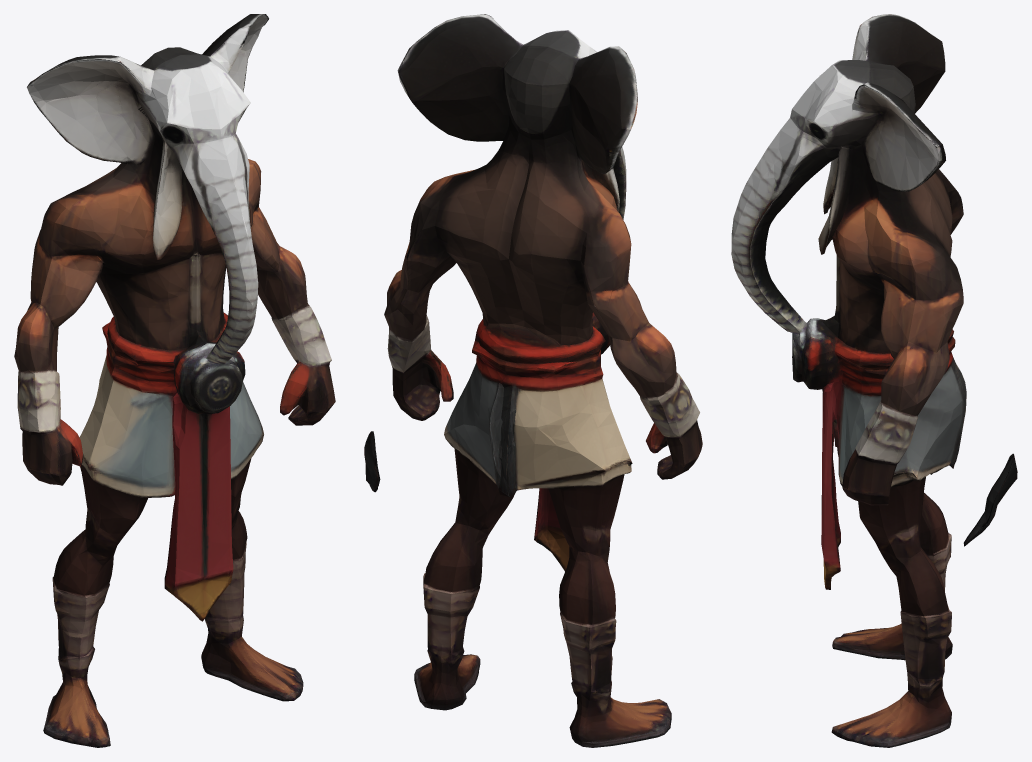
The model's file is sample-2.glb.
3 renders of one model, left to right at view 1: azimuth 30°, elevation 25°; view 2: azimuth 150°, elevation 25°; view 3: azimuth 270°, elevation 25°, orthographic. The views are drawn at different scales.
Visible parts, largest first — view 1: world; view 2: world; view 3: world.
Part boxes in pixels (x1,y1,x2,y2): world: (14, 14, 335, 747); world: (364, 14, 702, 747); world: (731, 14, 1017, 747).
Size of the model in its own units: 0.4679 by 0.9989 by 0.4064.
1 material, 1 textured.
